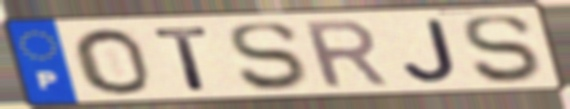J: (399, 17, 461, 85)
O: (69, 26, 155, 96)
R: (299, 17, 394, 91)
S: (459, 12, 543, 86), (225, 20, 309, 93)
T: (150, 24, 214, 92)
